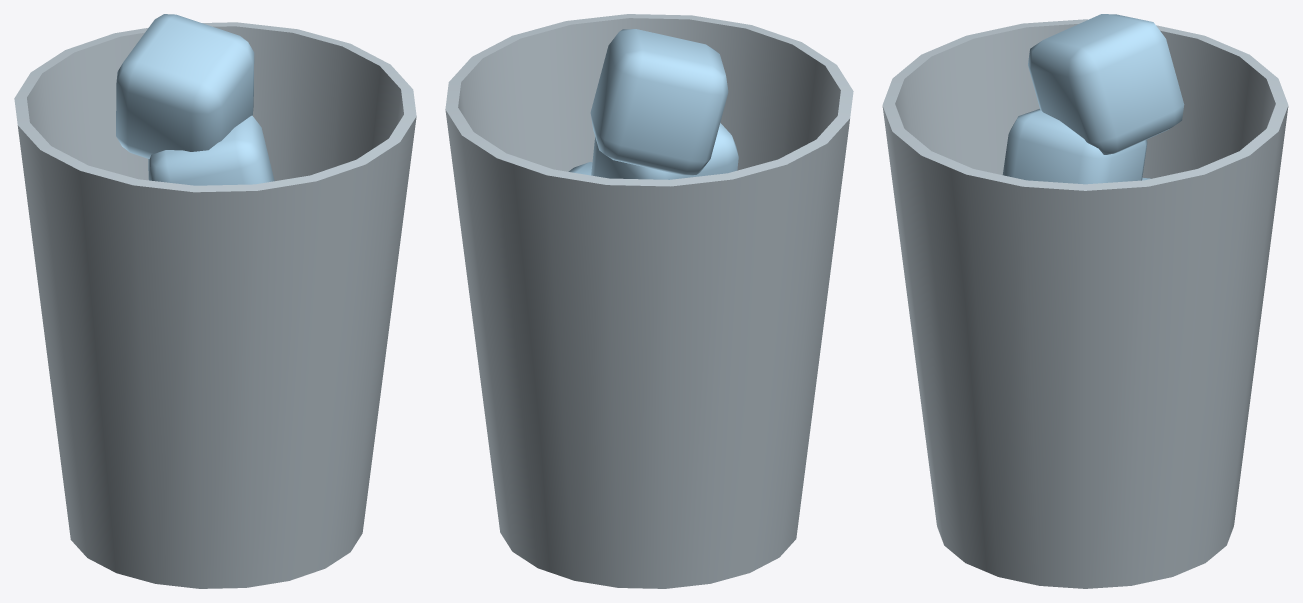
The model's file is Cafe_L2.fbx.
The picture shows the model from 3 angles, left to right: view 1: azimuth 30°, elevation 25°; view 2: azimuth 150°, elevation 25°; view 3: azimuth 270°, elevation 25°; orthographic projection.
Parts seen in each view (by area): view 1: C2_Cup, C2_Ice (×2); view 2: C2_Cup, C2_Ice (×2); view 3: C2_Cup, C2_Ice (×2).
Part boxes in pixels (x1,y1,x2,y2): C2_Cup: (14, 22, 416, 588); C2_Ice (×2): (116, 14, 274, 185); C2_Cup: (445, 14, 853, 588); C2_Ice (×2): (590, 29, 738, 179); C2_Cup: (882, 19, 1288, 588); C2_Ice (×2): (1002, 14, 1184, 184).
Bounding box in the file's own units: 15.99 × 21.51 × 15.99.
